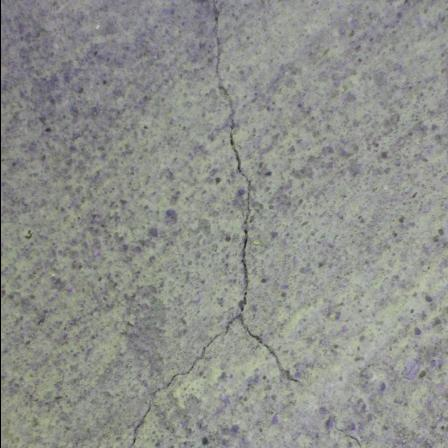crack: (28, 0, 333, 448)
